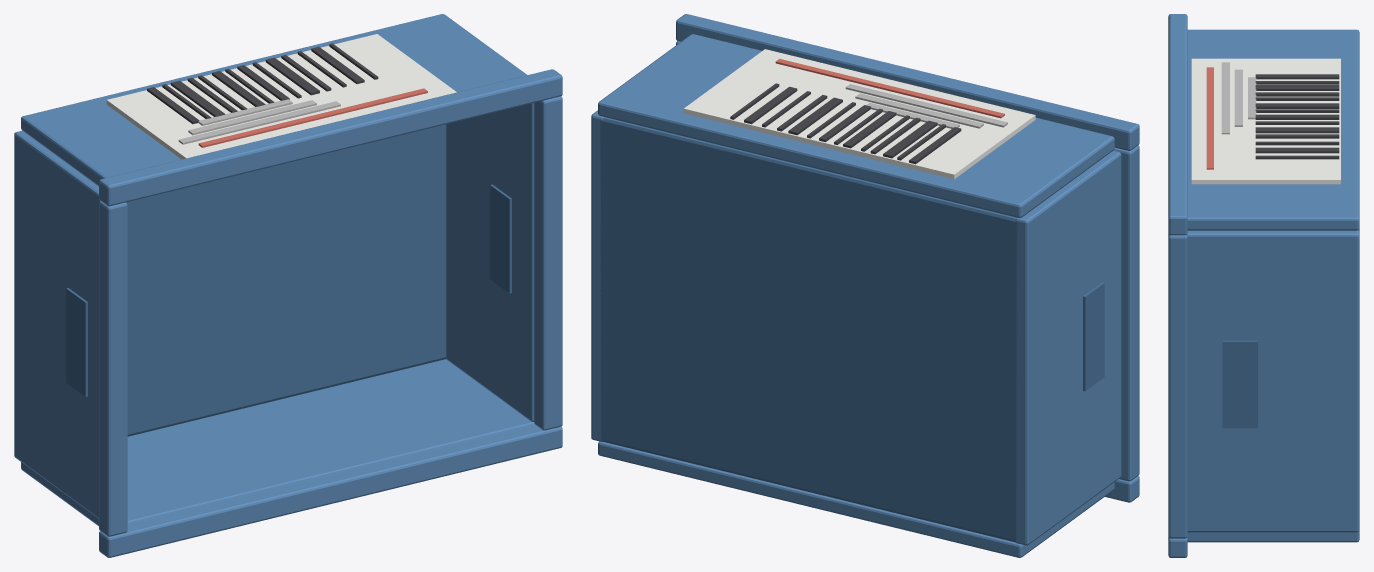
The model's file is BLUE.glb.
3 renders of one model, left to right at view 1: azimuth 30°, elevation 25°; view 2: azimuth 150°, elevation 25°; view 3: azimuth 270°, elevation 25°, orthographic. The views are drawn at different scales.
Visible parts, largest first — view 1: BLUE_bottom, BLUE_wall_f, BLUE_wall_l, BLUE_wall_r, BLUE_wall_b, BLUE_labelpanel, BLUE_rim_b, BLUE_rim_f, BLUE_rim_l, BLUE_rim_r, BLUE_grip_r, BLUE_grip_l (+3 smaller); view 2: BLUE_bottom, BLUE_wall_l, BLUE_wall_b, BLUE_labelpanel, BLUE_rim_b, BLUE_wall_f, BLUE_rim_l, BLUE_wall_r, BLUE_grip_l, BLUE_labelstripe, BLUE_line_0, BLUE_line_1; view 3: BLUE_wall_r, BLUE_wall_b, BLUE_labelpanel, BLUE_rim_r, BLUE_rim_b, BLUE_grip_r, BLUE_wall_f, BLUE_labelstripe, BLUE_line_0, BLUE_bar_9, BLUE_bar_12, BLUE_line_1 (+14 smaller).
Boxes of the visible parts, x1,y1,x2,y2 form: BLUE_bottom: [126, 124, 446, 436]; BLUE_wall_f: [21, 359, 535, 525]; BLUE_wall_l: [14, 130, 99, 518]; BLUE_wall_r: [446, 103, 534, 421]; BLUE_wall_b: [21, 14, 527, 186]; BLUE_labelpanel: [106, 34, 456, 159]; BLUE_rim_b: [99, 69, 562, 206]; BLUE_rim_f: [99, 425, 562, 557]; BLUE_rim_l: [99, 201, 127, 536]; BLUE_rim_r: [534, 96, 562, 430]; BLUE_grip_r: [490, 184, 511, 293]; BLUE_grip_l: [66, 288, 87, 396]; BLUE_bottom: [600, 117, 1017, 542]; BLUE_wall_l: [1015, 150, 1121, 545]; BLUE_wall_b: [598, 34, 1114, 217]; BLUE_labelpanel: [683, 49, 1035, 179]; BLUE_rim_b: [676, 14, 1139, 150]; BLUE_wall_f: [598, 441, 1114, 557]; BLUE_rim_l: [1114, 145, 1139, 481]; BLUE_wall_r: [591, 110, 603, 441]; BLUE_grip_l: [1083, 282, 1104, 391]; BLUE_labelstripe: [775, 59, 1004, 118]; BLUE_line_0: [845, 84, 1007, 127]; BLUE_line_1: [855, 93, 983, 128]; BLUE_wall_r: [1187, 230, 1359, 532]; BLUE_wall_b: [1187, 29, 1359, 230]; BLUE_labelpanel: [1191, 58, 1340, 184]; BLUE_rim_r: [1168, 233, 1187, 538]; BLUE_rim_b: [1168, 14, 1187, 235]; BLUE_grip_r: [1222, 340, 1257, 428]; BLUE_wall_f: [1187, 530, 1359, 542]; BLUE_labelstripe: [1206, 67, 1213, 169]; BLUE_line_0: [1221, 62, 1229, 134]; BLUE_bar_9: [1255, 127, 1339, 133]; BLUE_bar_12: [1255, 147, 1339, 153]; BLUE_line_1: [1234, 69, 1242, 126].
Size of the model in its own units: 0.404 by 0.316 by 0.16.
